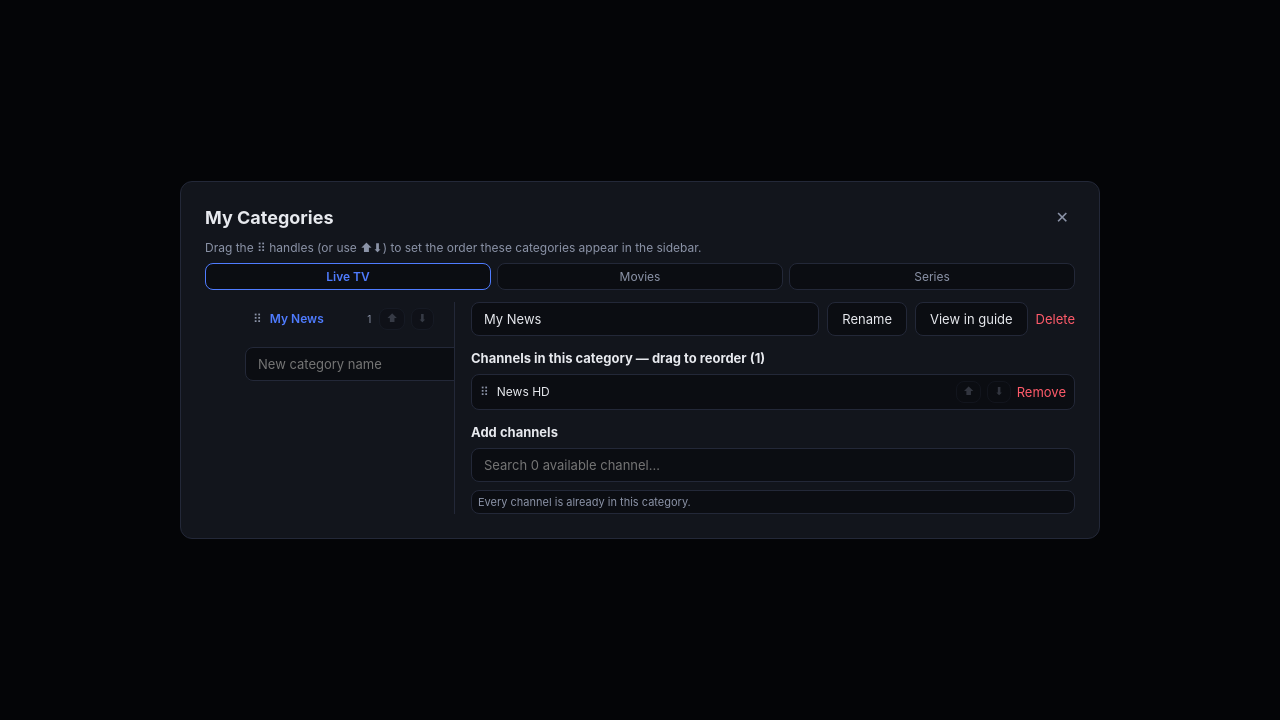
it: CustomCategoriesModal › lists the current kind and switches kinds with the tabs
This screenshot has width=1280, height=720.
Expected: the button "My News" is shown, top-left (270, 312), bottom-right (359, 326)
Expected: the text "My Movies" is not shown
Switching to the Movies tab shows the movie grouping instead.
Click the button "Movies".
click(640, 277)  # box top-left (497, 263), bottom-right (783, 290)
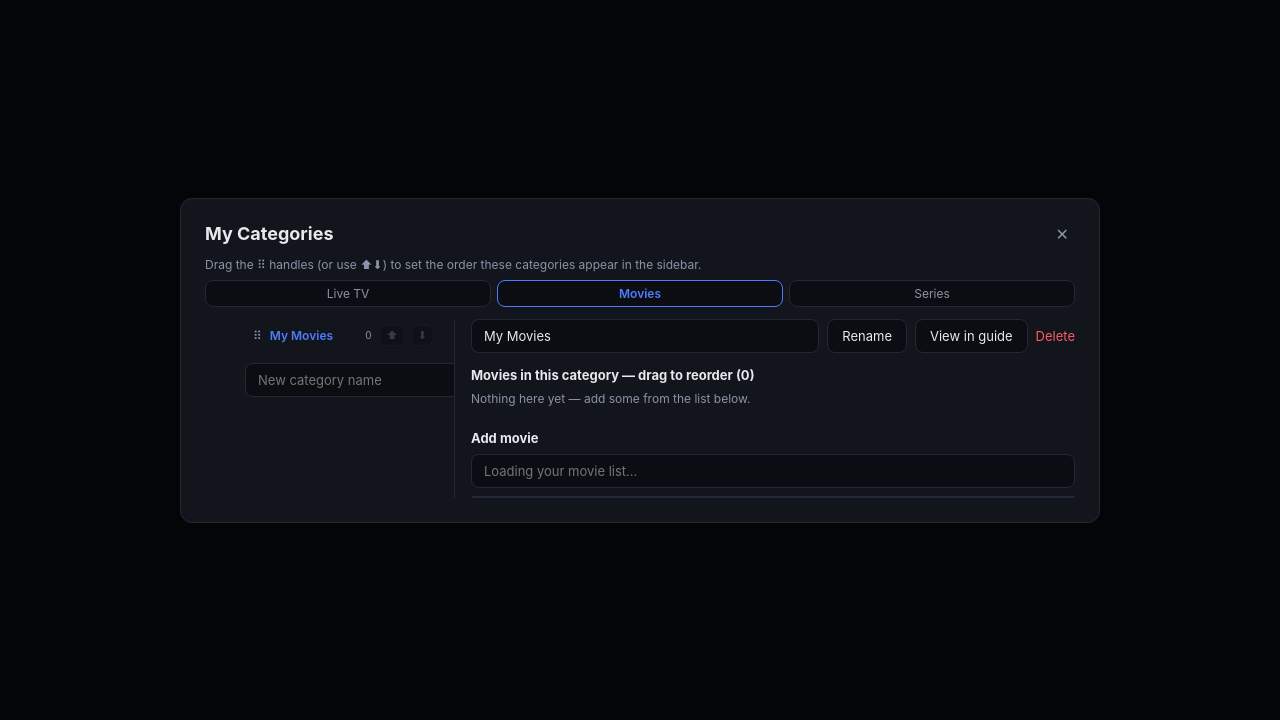
Expected: the button "My Movies" is shown, top-left (270, 328), bottom-right (357, 343)
Expected: the button "My News" is gone
